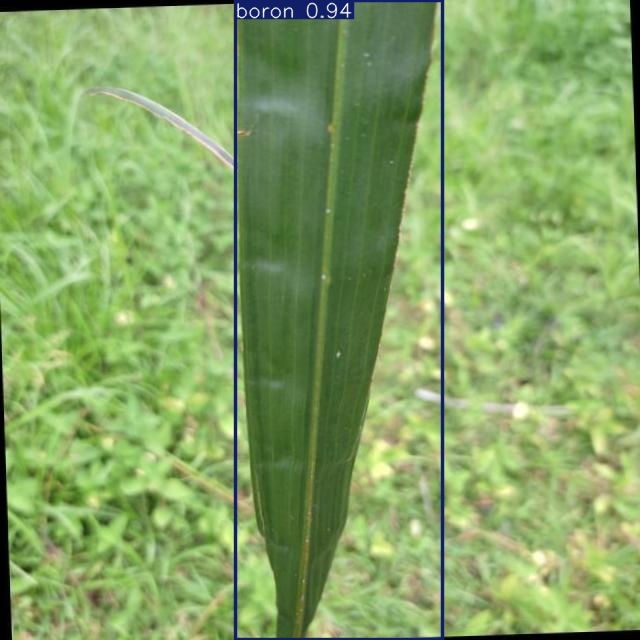nitrogen: (235, 1, 442, 640)
